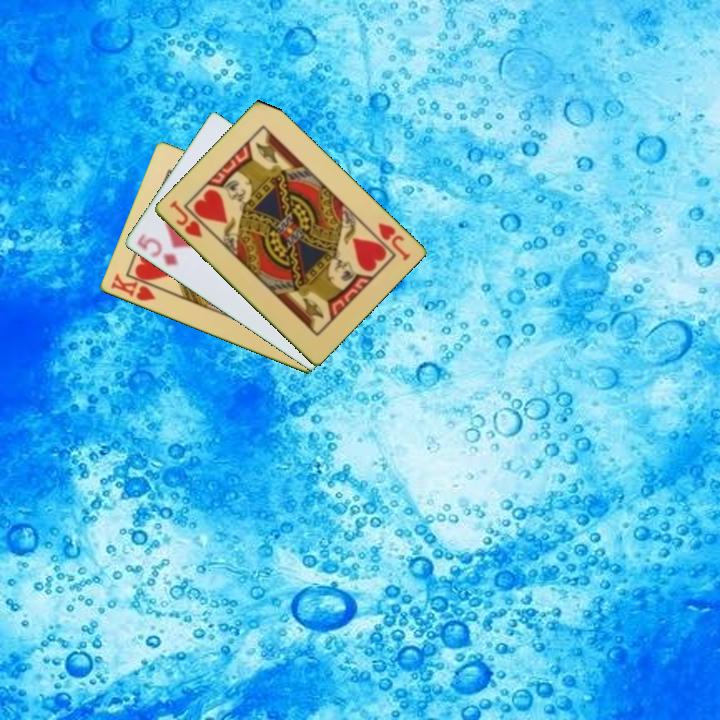5d: (133, 229, 181, 269)
Jh: (165, 197, 205, 241), (374, 220, 413, 264)
Kh: (107, 270, 164, 304)
